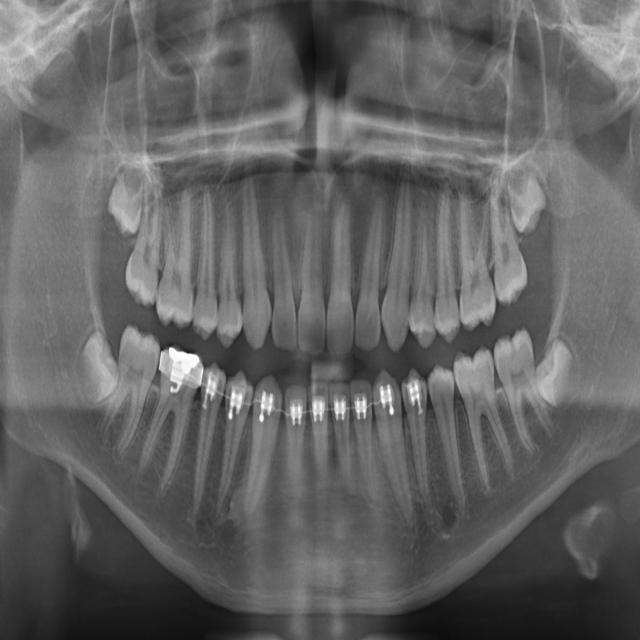AmalgamRestoration: (165, 335, 201, 405)
DentalCaries: (504, 316, 527, 401)
